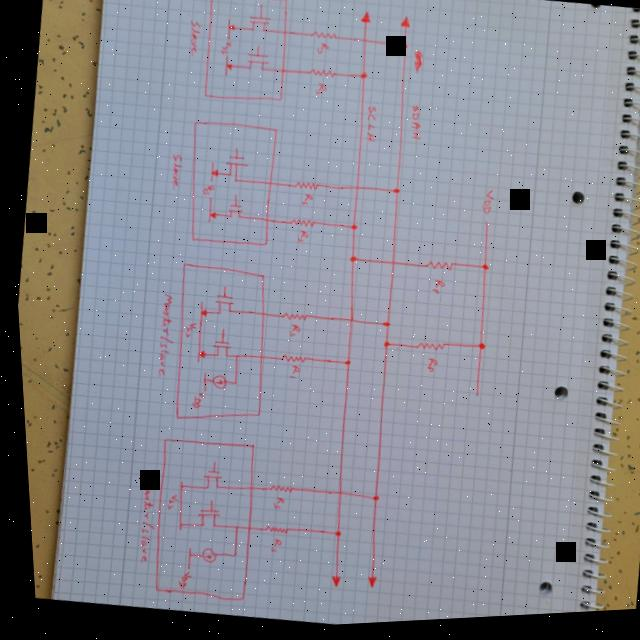crossover: (328, 492, 338, 501), (342, 319, 351, 328), (385, 262, 394, 271), (351, 188, 358, 197), (360, 41, 368, 48)
junction: (471, 345, 482, 357), (475, 266, 486, 277), (377, 322, 388, 333), (398, 44, 408, 56), (377, 342, 387, 353), (357, 74, 368, 84), (364, 497, 374, 507), (345, 257, 355, 267), (389, 190, 399, 200), (338, 361, 348, 371), (326, 531, 335, 542), (346, 226, 356, 235), (225, 524, 234, 534), (170, 523, 178, 533), (223, 553, 232, 561), (226, 381, 234, 389), (196, 310, 203, 319), (171, 483, 179, 490), (228, 355, 235, 362), (180, 553, 186, 560), (198, 379, 203, 385)
resistor: (410, 343, 444, 359), (306, 67, 336, 85), (421, 262, 452, 279), (256, 524, 284, 540), (276, 311, 304, 326), (275, 353, 303, 368), (290, 181, 318, 196), (310, 31, 337, 46), (286, 218, 313, 233), (261, 484, 287, 498)
source: (208, 169, 219, 181), (223, 64, 232, 74), (226, 24, 235, 33), (206, 213, 215, 222), (194, 350, 201, 361)
terminal: (186, 302, 204, 367), (168, 480, 182, 533), (201, 199, 212, 227), (357, 14, 374, 30), (358, 577, 373, 594), (321, 575, 336, 592), (176, 547, 186, 571), (398, 19, 411, 35), (205, 162, 214, 183), (221, 56, 229, 78), (195, 373, 203, 393), (224, 21, 231, 41), (467, 395, 477, 405), (227, 193, 237, 203), (255, 6, 266, 15), (216, 285, 226, 294), (230, 147, 239, 156), (199, 499, 208, 507), (253, 45, 262, 53), (480, 226, 488, 234), (214, 328, 222, 335), (205, 462, 212, 469)
text: (124, 474, 156, 567), (145, 291, 177, 383), (360, 108, 379, 146), (405, 109, 424, 146), (165, 154, 184, 190), (186, 21, 203, 57), (476, 192, 494, 220), (426, 283, 443, 302), (169, 572, 184, 592), (219, 40, 233, 61), (263, 498, 280, 515), (197, 184, 215, 200), (419, 359, 434, 378), (185, 392, 200, 411), (282, 366, 297, 385), (311, 85, 327, 102), (283, 325, 298, 343), (179, 323, 193, 342), (297, 195, 312, 212), (292, 232, 307, 249), (159, 494, 172, 513), (263, 540, 277, 557), (314, 45, 330, 59)
transistor: (221, 155, 249, 189), (187, 507, 216, 533), (243, 53, 272, 79), (245, 16, 273, 40), (194, 468, 219, 494), (205, 338, 229, 363), (208, 295, 232, 320), (221, 204, 242, 223)
